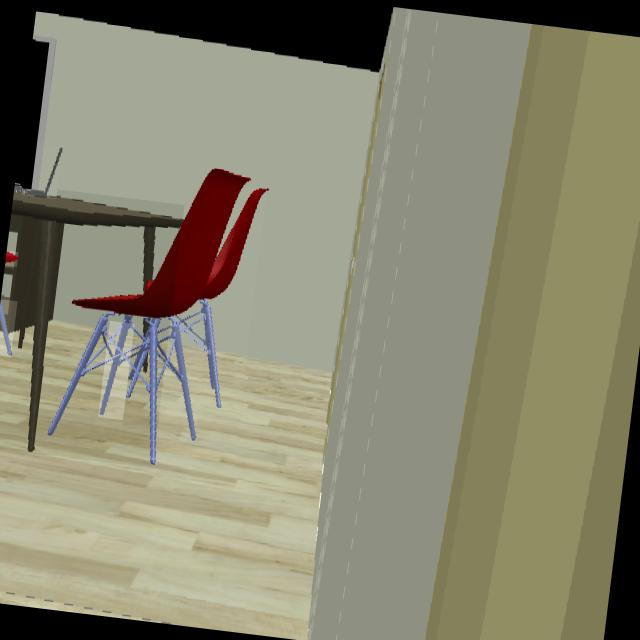chair: (46, 169, 267, 464), (199, 189, 266, 409), (98, 323, 132, 417), (169, 322, 194, 442), (0, 299, 10, 356), (5, 251, 17, 264)
laptop: (21, 147, 62, 198)
table: (5, 184, 182, 453)
